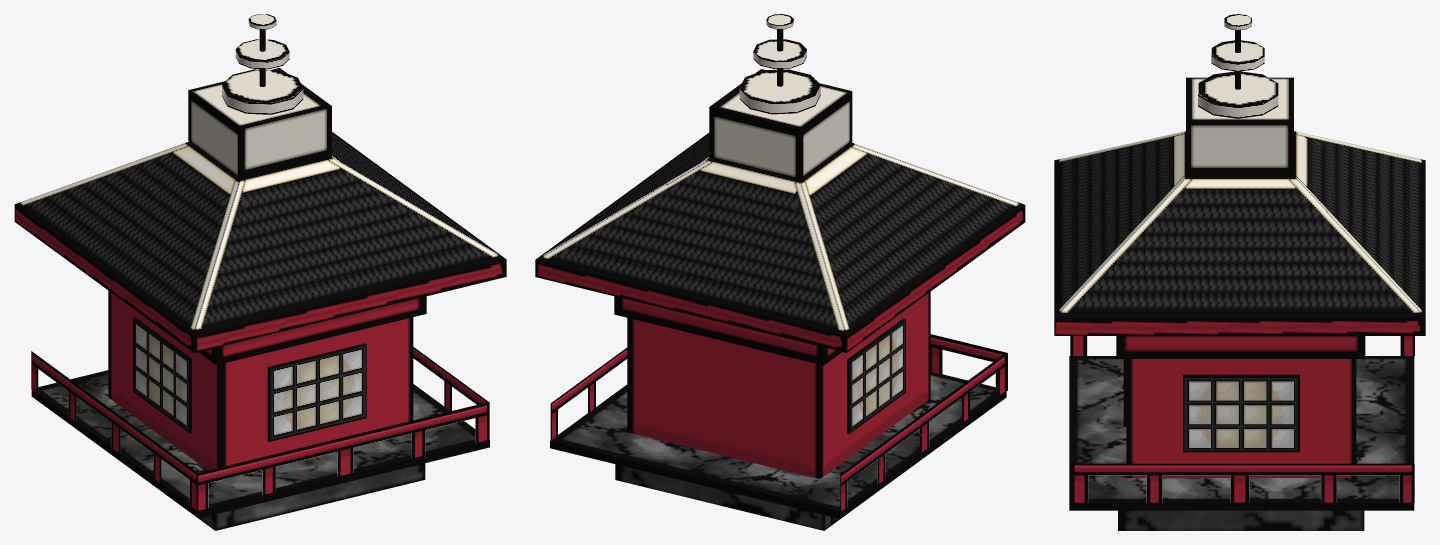
File: Top_tower.FBX
The picture shows the model from 3 angles, left to right: view 1: azimuth 30°, elevation 25°; view 2: azimuth 150°, elevation 25°; view 3: azimuth 270°, elevation 25°; orthographic projection. The views are drawn at different scales.
Parts seen in each view (by area): view 1: Box011, Box008, Box001, Box005, Box012, Box013, Box002, Box003, Cylinder001, Cylinder002; view 2: Box011, Box001, Box008, Box012, Box013, Box005, Box002, Box003, Cylinder001, Cylinder002; view 3: Box011, Box008, Box001, Box005, Box012, Box013, Box002, Box003, Cylinder001, Cylinder002.
Boxes of the visible parts, left/top/right/bottom form: Box011: left=14, top=132, right=505, bottom=335; Box008: left=31, top=347, right=489, bottom=518; Box001: left=108, top=290, right=413, bottom=470; Box005: left=133, top=317, right=366, bottom=441; Box012: left=188, top=68, right=331, bottom=179; Box013: left=14, top=132, right=506, bottom=352; Box002: left=198, top=296, right=426, bottom=365; Box003: left=198, top=463, right=425, bottom=530; Cylinder001: left=222, top=69, right=303, bottom=114; Cylinder002: left=235, top=39, right=289, bottom=69; Box011: left=536, top=133, right=1024, bottom=335; Box001: left=627, top=292, right=930, bottom=478; Box008: left=550, top=334, right=1007, bottom=518; Box012: left=709, top=69, right=852, bottom=179; Box013: left=535, top=133, right=1025, bottom=352; Box005: left=847, top=318, right=905, bottom=433; Box002: left=614, top=296, right=841, bottom=365; Box003: left=615, top=464, right=839, bottom=530; Cylinder001: left=739, top=69, right=820, bottom=114; Cylinder002: left=753, top=39, right=806, bottom=69; Box011: left=1054, top=131, right=1425, bottom=317; Box008: left=1069, top=336, right=1414, bottom=510; Box001: left=1126, top=359, right=1356, bottom=477; Box005: left=1123, top=359, right=1299, bottom=452; Box012: left=1186, top=77, right=1293, bottom=176; Box013: left=1054, top=318, right=1425, bottom=335; Box002: left=1116, top=336, right=1365, bottom=358; Box003: left=1118, top=510, right=1364, bottom=530; Cylinder001: left=1198, top=71, right=1278, bottom=118; Cylinder002: left=1211, top=40, right=1264, bottom=71.
Size of the model in its own units: 65.02 by 87.98 by 64.6.
Materials: 2 (2 with a texture image).
